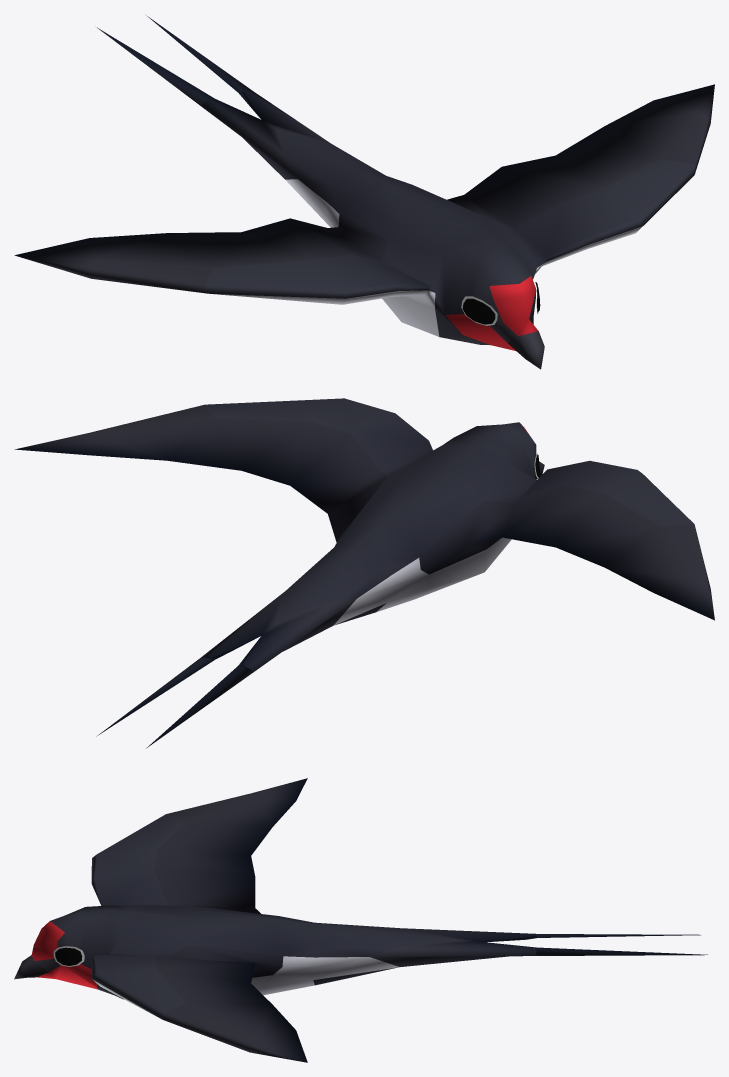
File: kit-swallow.glb
3 views of the same model, one above another, from view 1: azimuth 30°, elevation 25°; view 2: azimuth 150°, elevation 25°; view 3: azimuth 270°, elevation 25° (orthographic). The views are drawn at different scales.
Visible parts, largest first — view 1: base; view 2: base; view 3: base.
Part boxes in pixels (bbox=[...]): base: bbox=[14, 15, 714, 369]; base: bbox=[14, 398, 714, 748]; base: bbox=[14, 778, 707, 1062].
Bounding box in the file's own units: 0.516 × 0.0807 × 0.5368.
